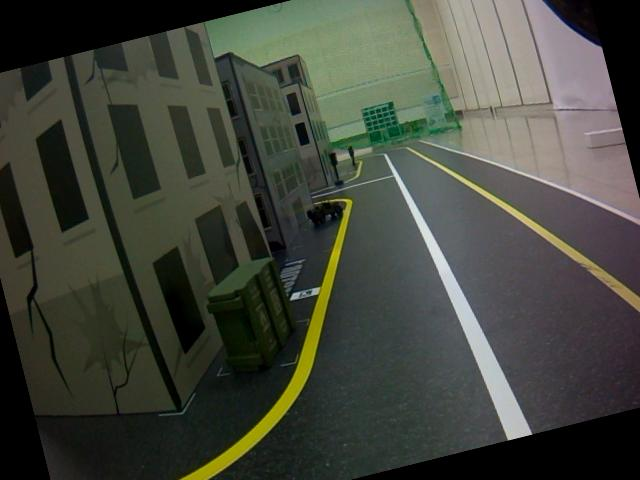Box: (194, 250, 308, 388)
Car: (303, 193, 348, 230)
Enemy: (346, 143, 362, 172)
